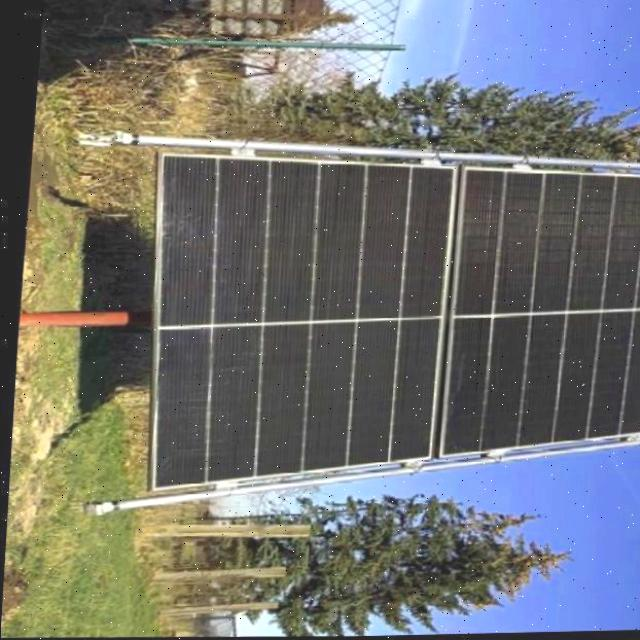Normal Solar Panel: (128, 142, 640, 501)
